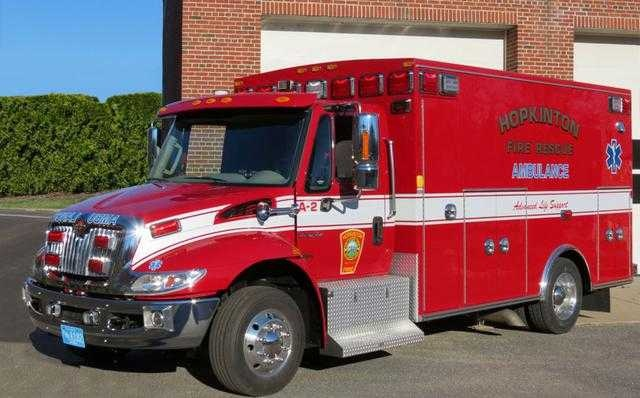Fire Truck: (40, 63, 640, 378)
